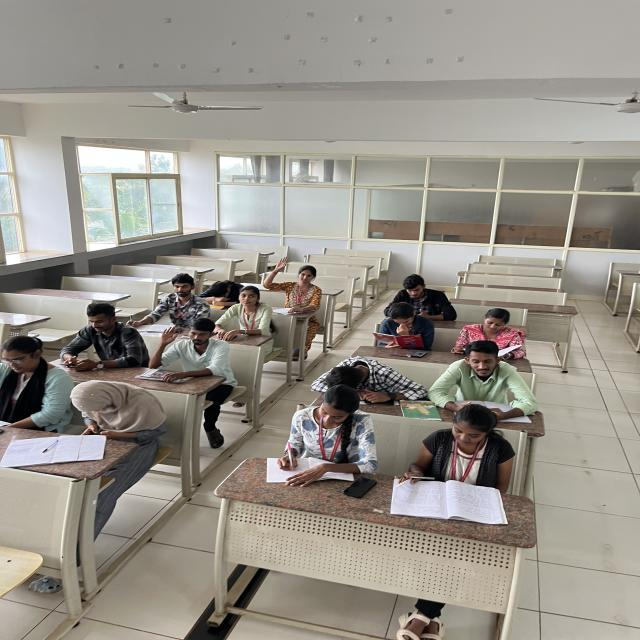Hand Rising: (150, 317, 221, 371), (264, 256, 318, 304)
Reading: (444, 304, 528, 363), (367, 309, 436, 348)
Sleeping: (312, 357, 423, 402), (200, 278, 245, 307)
Using Phone: (64, 376, 159, 438), (56, 301, 138, 368), (378, 274, 460, 320)
Writing: (394, 405, 517, 493), (273, 383, 370, 480), (126, 278, 202, 330)
